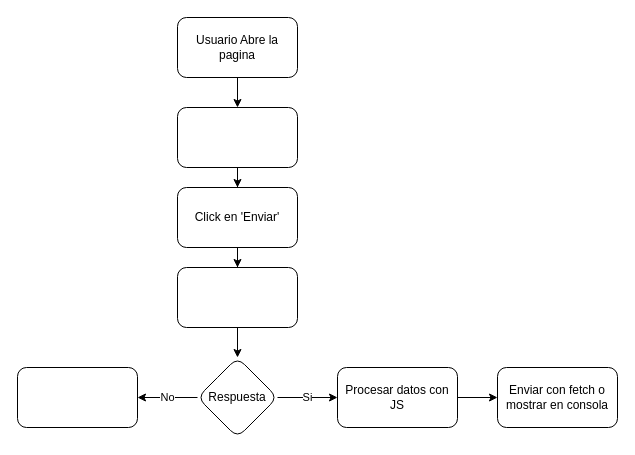
Image size: 635x455. Some labels were removed from this diagram. Here are the shapes that lost their labels. From the top down, the box of each, then its label:
(176, 106, 298, 168): Usuario llena el formulario
(176, 266, 298, 328): Validar campos con JS
(16, 366, 138, 428): Mostrar Mensaje
